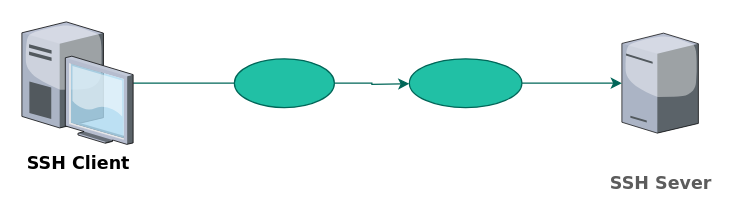
The diagram is 733 pixels wide and 215 high, and some of its shapes have lost their labels. The shapes that lost their labels are listed below. From the top down, each one's box as (x1, y1, x2, y2) in pixels, then its label:
(233, 58, 334, 108): Nhập khóa
(408, 58, 522, 108): Mật khẩu khóa
